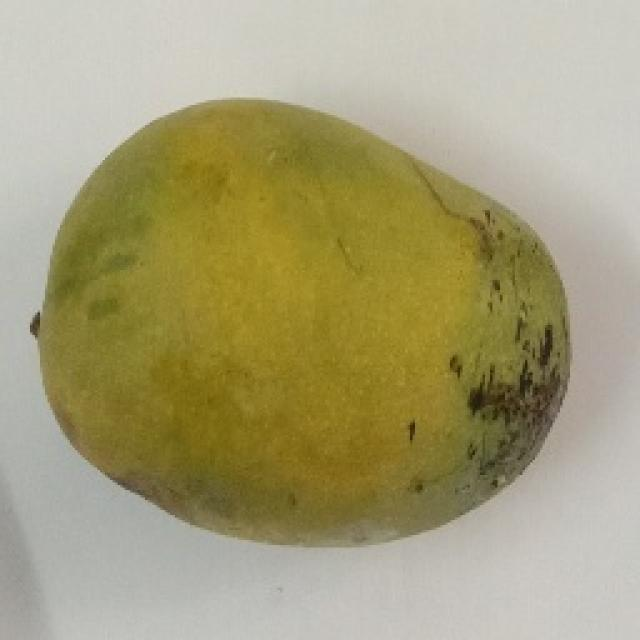defective: (28, 92, 572, 548)
